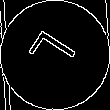L_SE: (25, 28, 85, 82)
